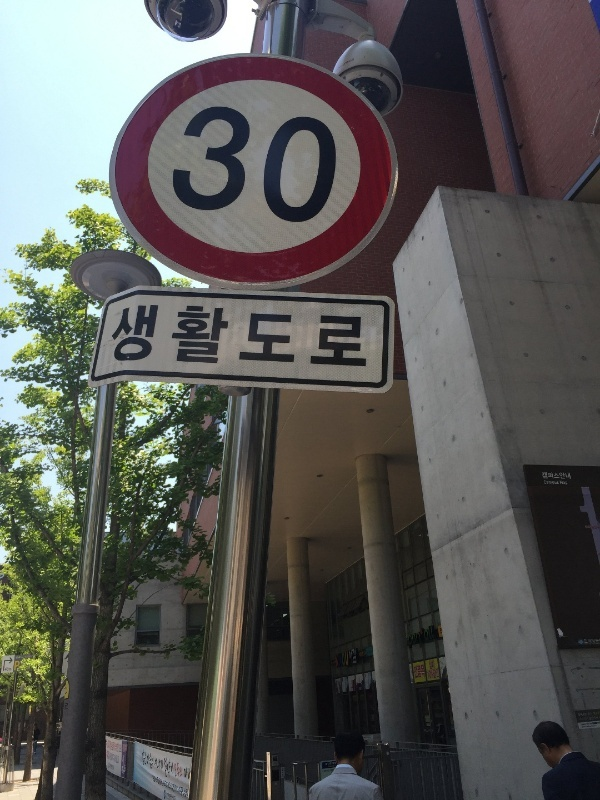text: (193, 101, 208, 232), (209, 101, 224, 232), (225, 101, 240, 232), (241, 101, 256, 232), (257, 101, 272, 232), (273, 101, 288, 232), (289, 101, 304, 232), (305, 101, 320, 232), (321, 101, 336, 232), (129, 301, 144, 372), (145, 301, 160, 372), (161, 301, 176, 372), (177, 301, 192, 372), (193, 301, 208, 372), (209, 301, 224, 372), (225, 301, 240, 372), (241, 301, 256, 372), (257, 301, 272, 372), (273, 301, 288, 372), (289, 301, 304, 372), (305, 301, 320, 372), (321, 301, 336, 372), (337, 301, 352, 372), (353, 301, 368, 372), (337, 101, 343, 232), (118, 301, 128, 372), (145, 749, 160, 788), (161, 749, 176, 788), (188, 101, 192, 232), (177, 749, 190, 788), (161, 774, 176, 799), (177, 774, 188, 799), (152, 774, 160, 799), (369, 301, 371, 372), (142, 749, 144, 788)
